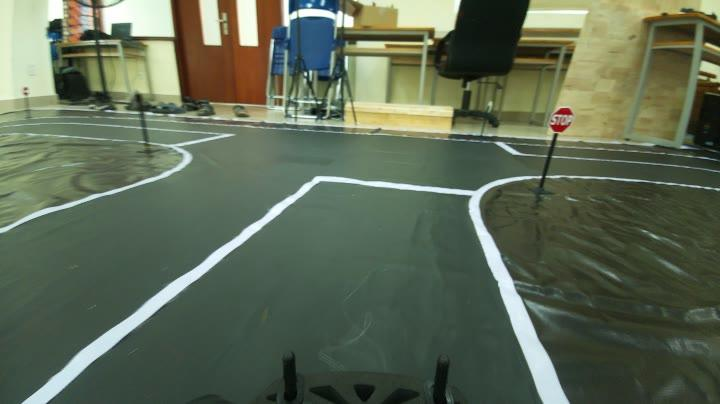stop: (548, 106, 574, 131)
